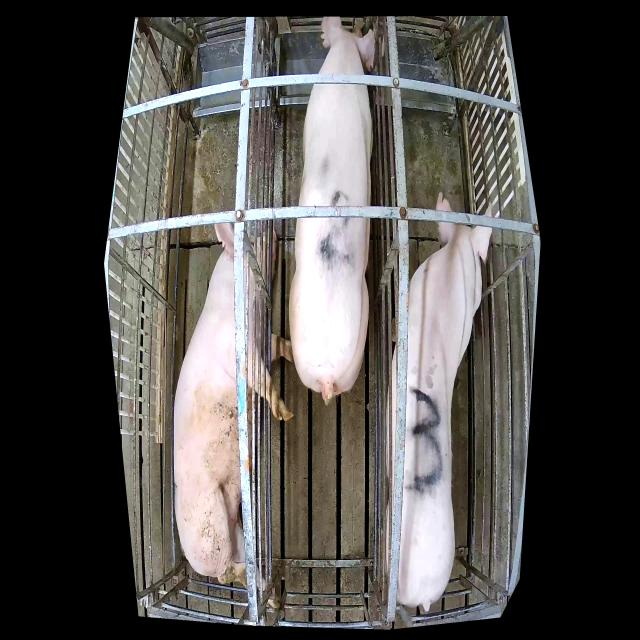pig: (174, 223, 302, 590), (385, 190, 492, 612), (289, 17, 375, 405)
